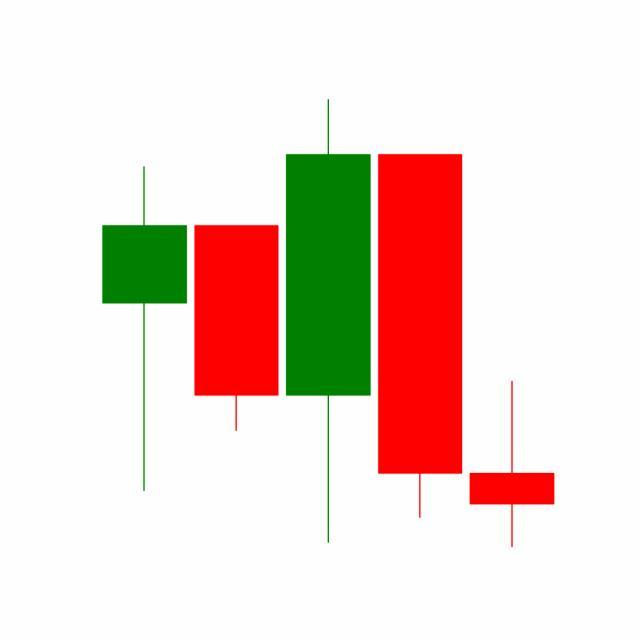Spinning Top: (466, 379, 559, 550)
